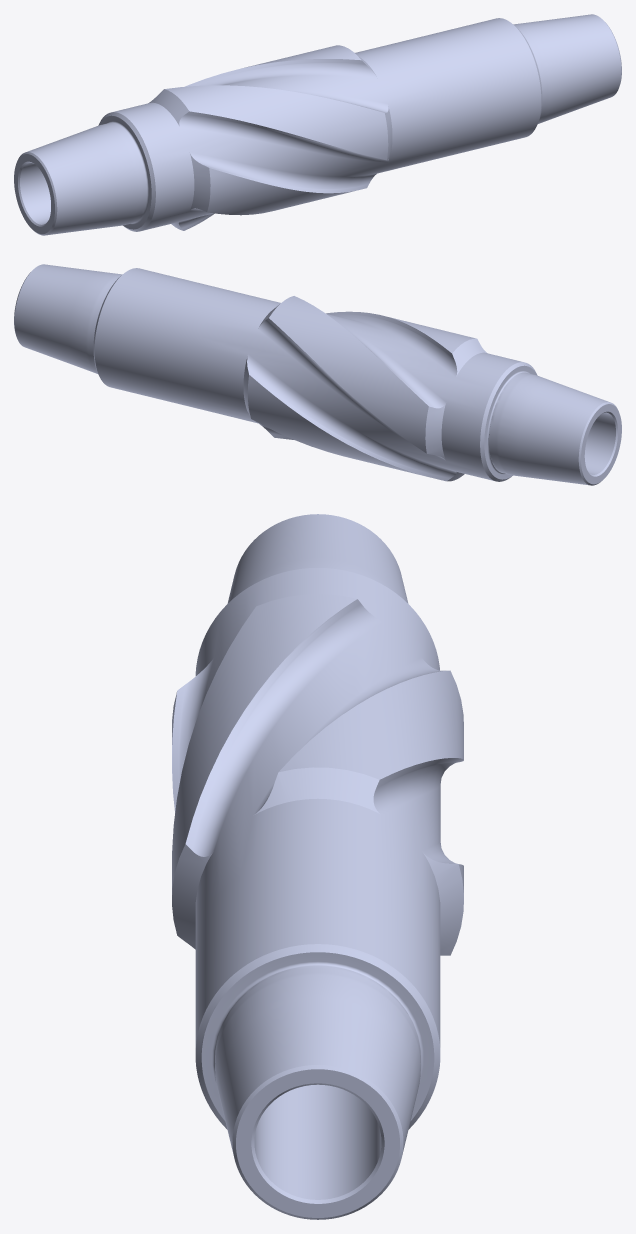
File: stabilizer.obj
3 renders of one model, top to bottom at view 1: azimuth 30°, elevation 25°; view 2: azimuth 150°, elevation 25°; view 3: azimuth 270°, elevation 25°, orthographic. The views are drawn at different scales.
Visible parts, largest first — view 1: _7708__Def; view 2: _7708__Def; view 3: _7708__Def.
Boxes of the visible parts, x1,y1,x2,y2 form: _7708__Def: (14,14,621,235); _7708__Def: (14,264,621,485); _7708__Def: (172,514,463,1219).
Size of the model in its own units: 654 by 146 by 146.
